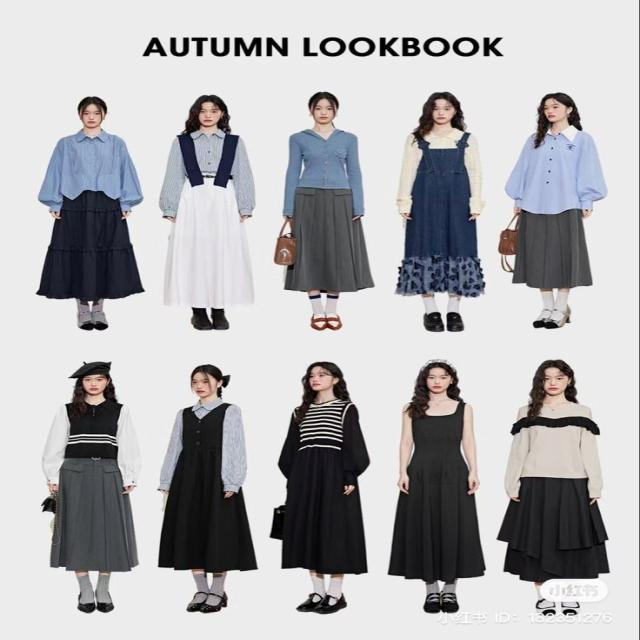person: (496, 359, 610, 616), (36, 95, 145, 331), (387, 358, 486, 614), (41, 361, 141, 614), (157, 363, 258, 612), (504, 92, 608, 328), (275, 361, 370, 614), (158, 94, 256, 330), (281, 90, 375, 330), (395, 90, 486, 332)
